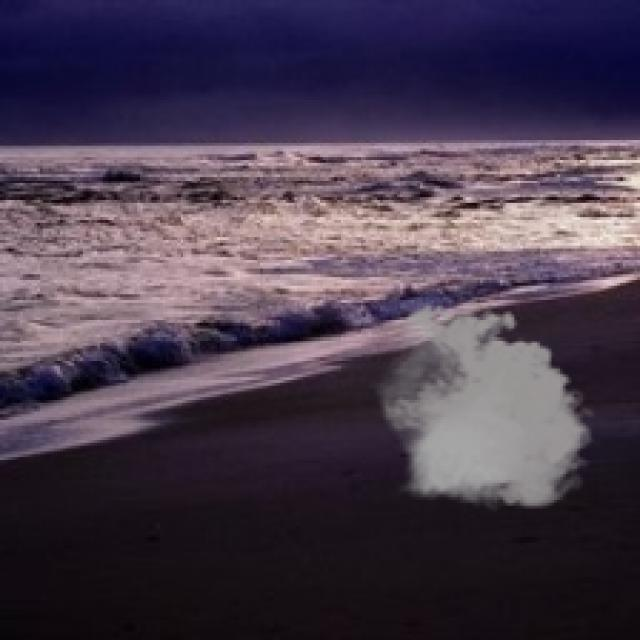Smoke: (368, 297, 600, 517)
